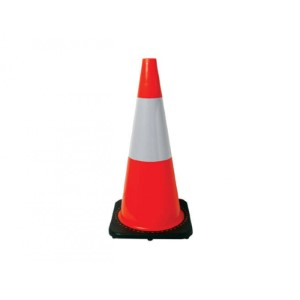traffic cone: (109, 58, 193, 239)
